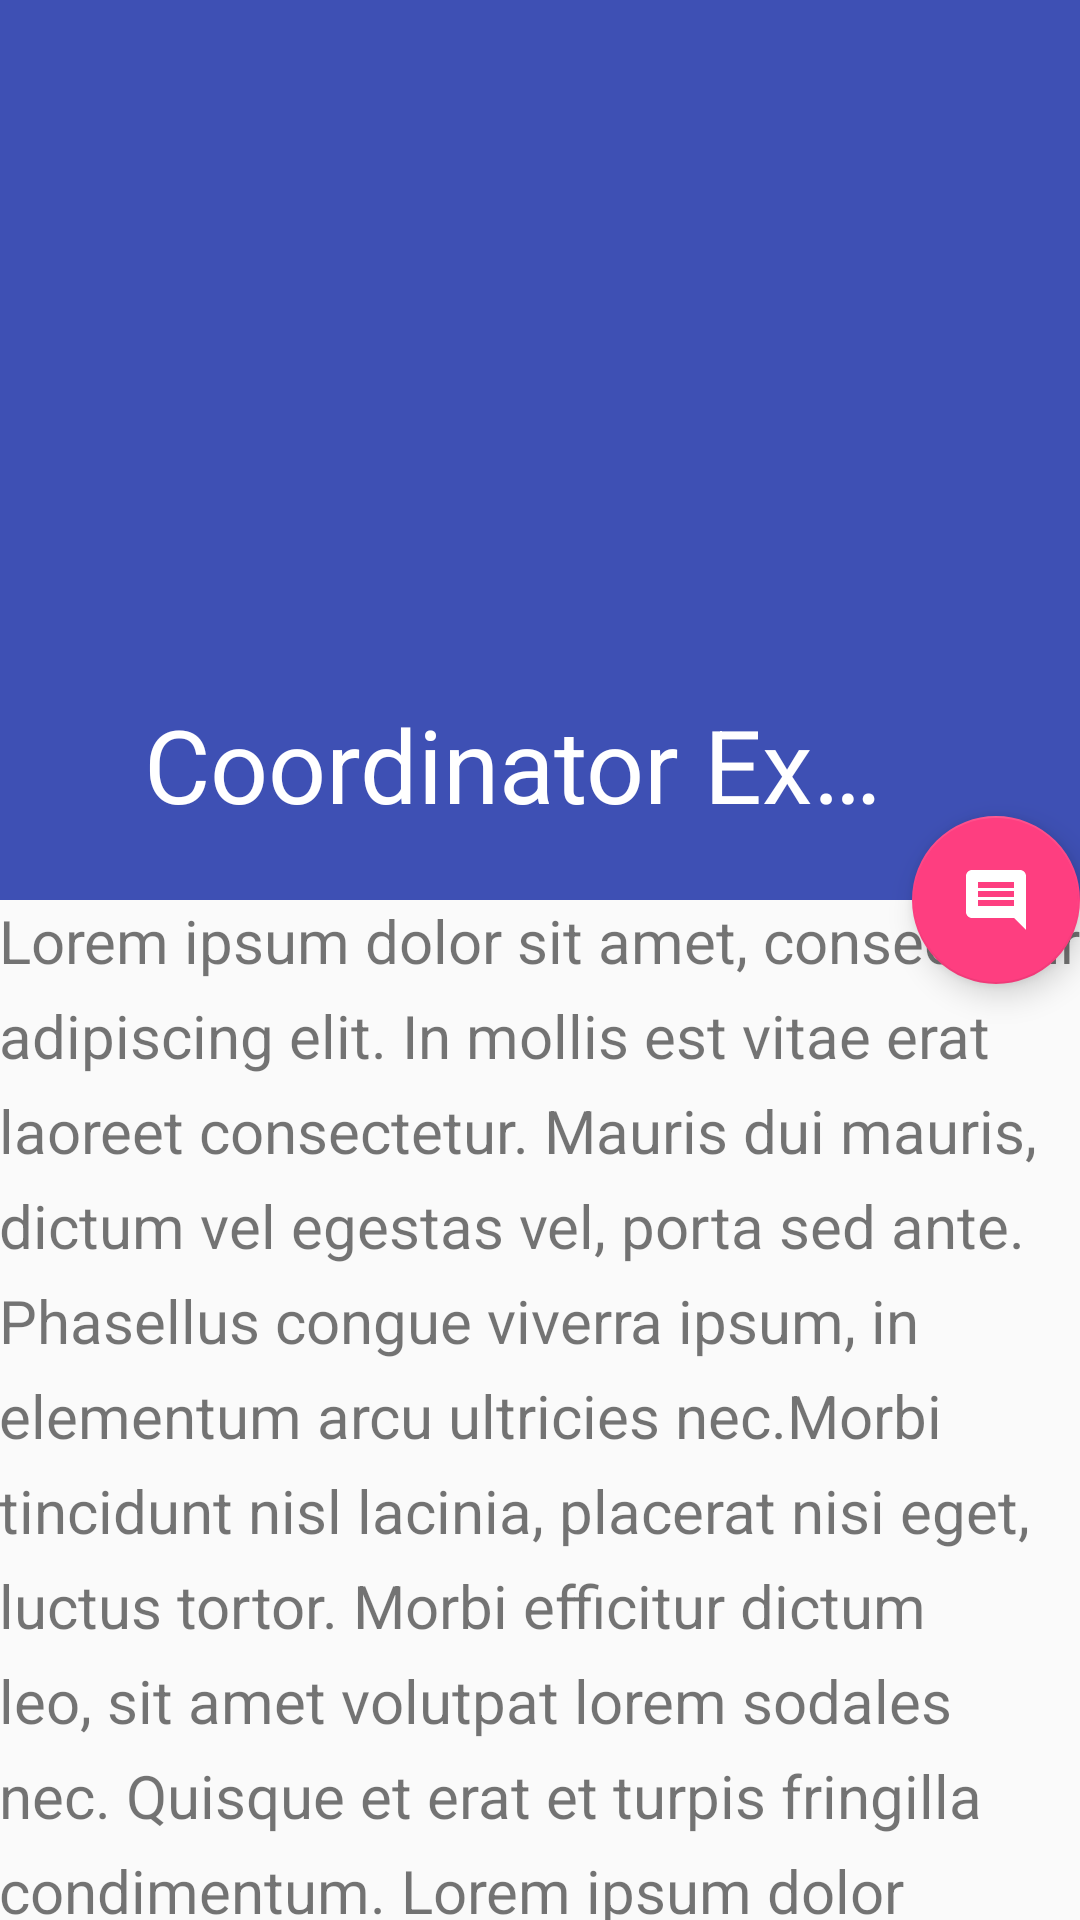

Screen size 1080px x 1920px. Icon name, then its center in pixels as [x,y]:
comment: [996,900]
